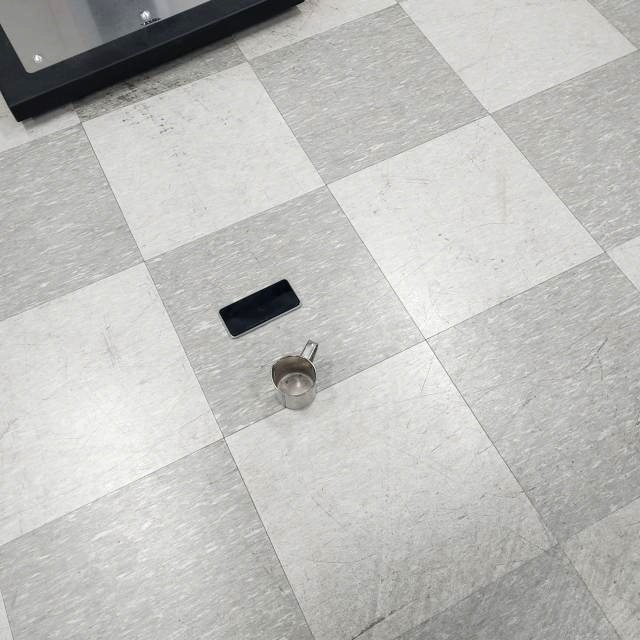cup: (271, 338, 321, 410)
phone: (217, 278, 304, 339)
